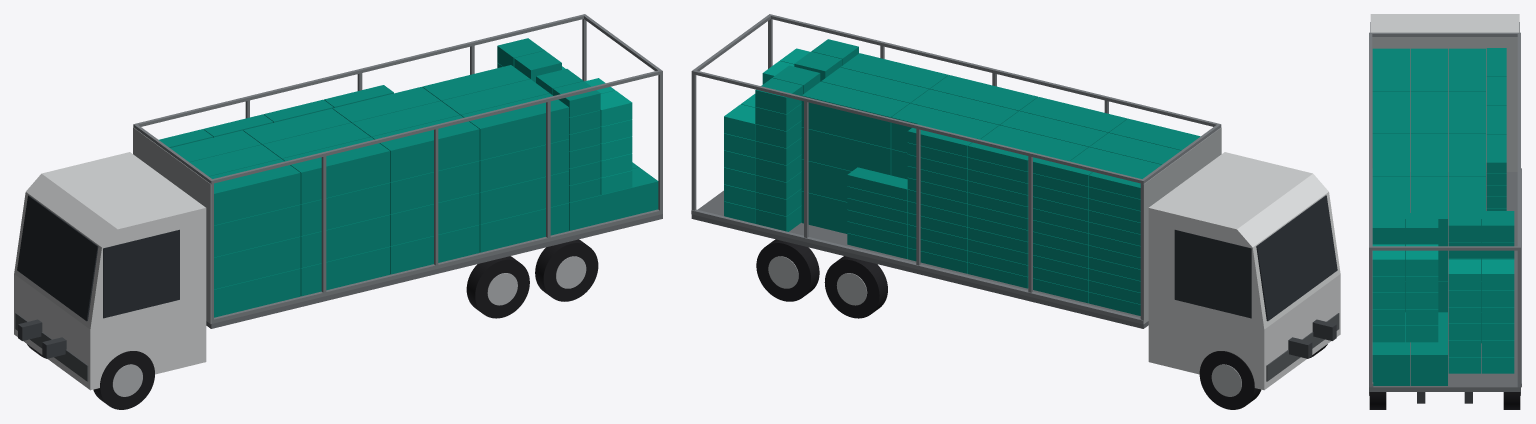
The model's file is truck-TR06.glb.
The picture shows the model from 3 angles, left to right: view 1: azimuth 30°, elevation 25°; view 2: azimuth 150°, elevation 25°; view 3: azimuth 270°, elevation 25°; orthographic projection. The views are drawn at different scales.
Visible parts, largest first — view 1: cabine, part23, janela, part70, part82, part58, part46, part85, frente, part43, part40, part15 (+44 smaller); view 2: cabine, part23, janela, part84, piso, part17, frente, part81, part16, part14, part35, part31 (+84 smaller); view 3: frente, piso, cabine, part86, part83, part85, part46, part47, part48, part58, part59, part60 (+52 smaller).
Part boxes in pixels (x1,y1,x2,y2): cabine: (14, 152, 206, 390); part23: (17, 195, 98, 321); janela: (103, 229, 179, 318); part70: (371, 115, 479, 182); part82: (461, 93, 568, 160); part58: (282, 137, 389, 204); part46: (209, 159, 300, 225); part85: (569, 167, 658, 230); frente: (133, 127, 211, 323); part43: (214, 204, 300, 257); part40: (214, 236, 300, 289); part15: (211, 209, 662, 323); cabine: (1148, 152, 1340, 390); part23: (1256, 195, 1337, 321); janela: (1174, 229, 1251, 318); part84: (801, 81, 909, 148); piso: (691, 190, 1148, 328); part17: (691, 209, 1143, 324); frente: (1143, 127, 1221, 323); part81: (801, 127, 891, 175); part16: (691, 70, 1145, 183); part14: (768, 14, 1221, 127); part35: (756, 239, 819, 301); part31: (824, 256, 887, 318); frente: (1372, 37, 1517, 171); piso: (1369, 172, 1520, 391); cabine: (1370, 14, 1519, 32); part86: (1410, 312, 1447, 385); part83: (1410, 176, 1447, 246); part85: (1372, 312, 1409, 385); part46: (1372, 48, 1409, 91); part47: (1410, 48, 1447, 91); part48: (1448, 48, 1485, 91); part58: (1372, 91, 1409, 133); part59: (1410, 91, 1447, 133); part60: (1448, 91, 1485, 133).
Size of the model in its own units: 11.24 by 3.78 by 2.58.
